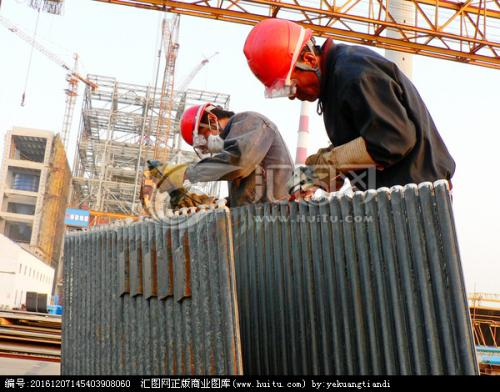hard-hat: (242, 18, 320, 101), (180, 102, 223, 146)
person: (243, 16, 455, 193), (180, 101, 295, 207)
vest: (308, 38, 457, 191), (183, 107, 295, 205)
